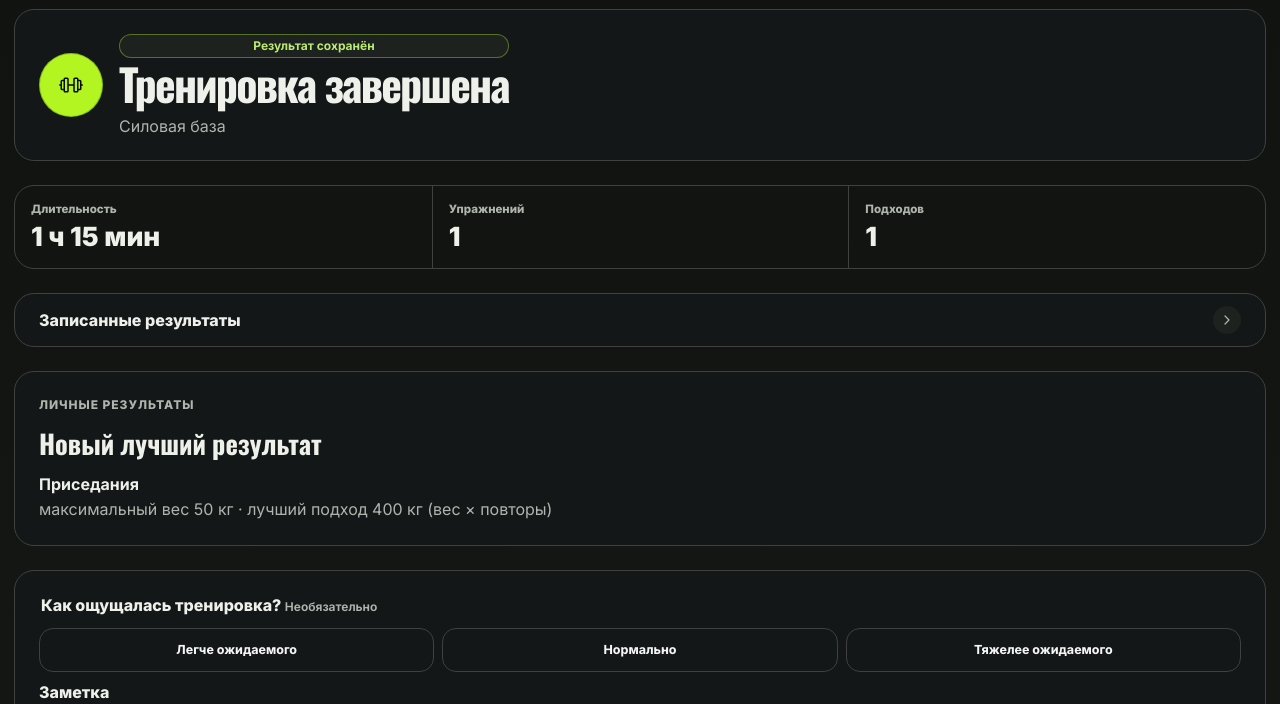
Test: WorkoutCompletionSummary › keeps the optional note after a recoverable save error and retries idempotent PUT
Click the button "Нормально": (640, 650) [442,628,838,672]
(page scrolled)
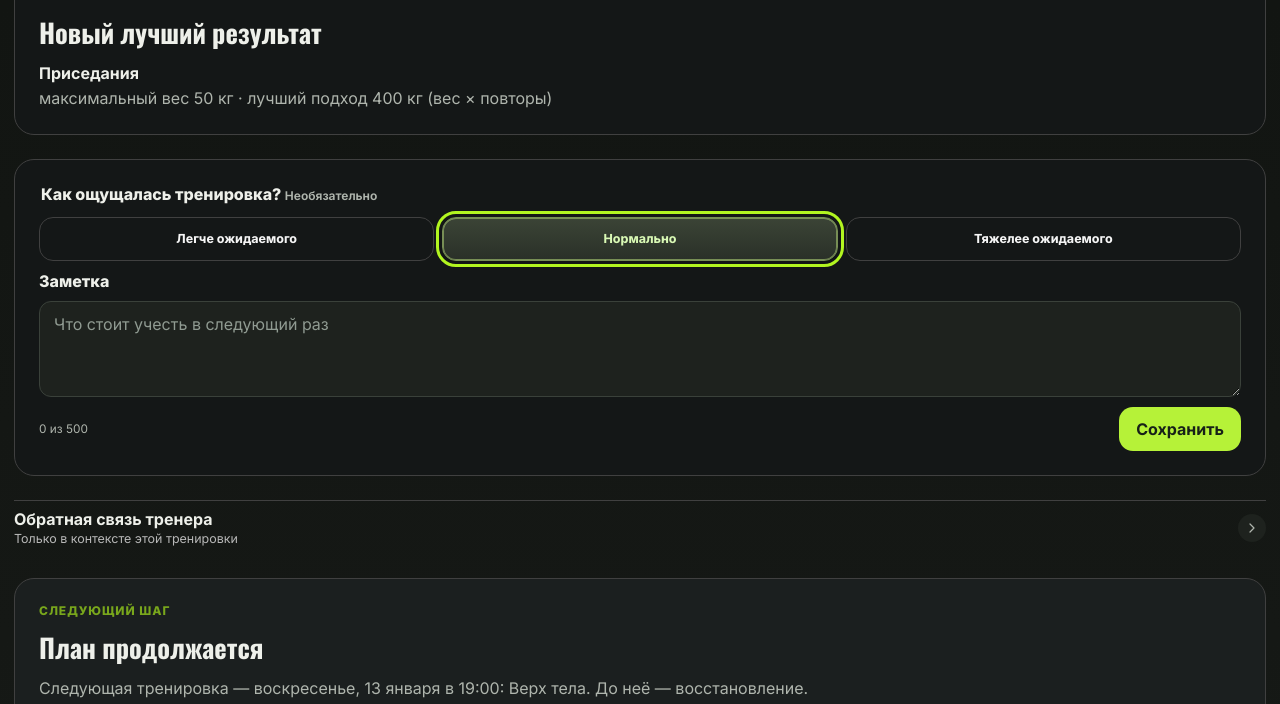
In the text box labelled "Заметка": (640, 349) [39,301,1241,397], type "Рабочий темп"
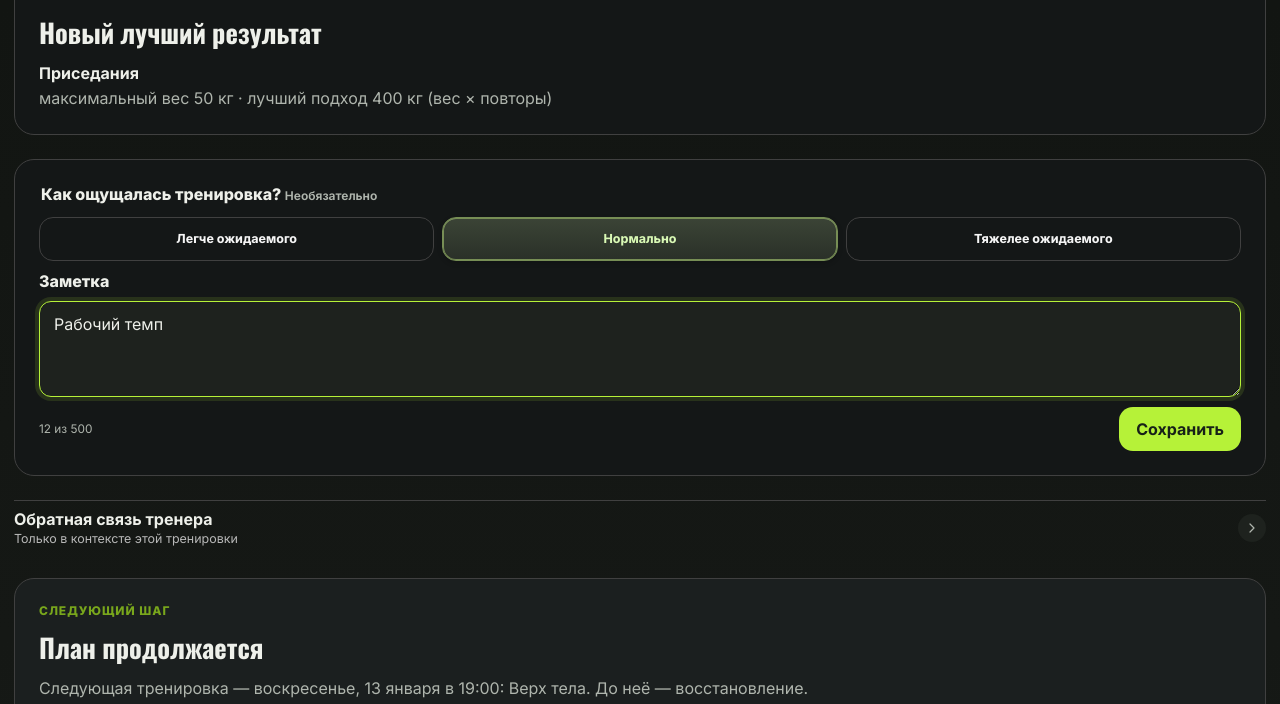
Click the button "Сохранить": (1180, 429) [1119,407,1241,451]
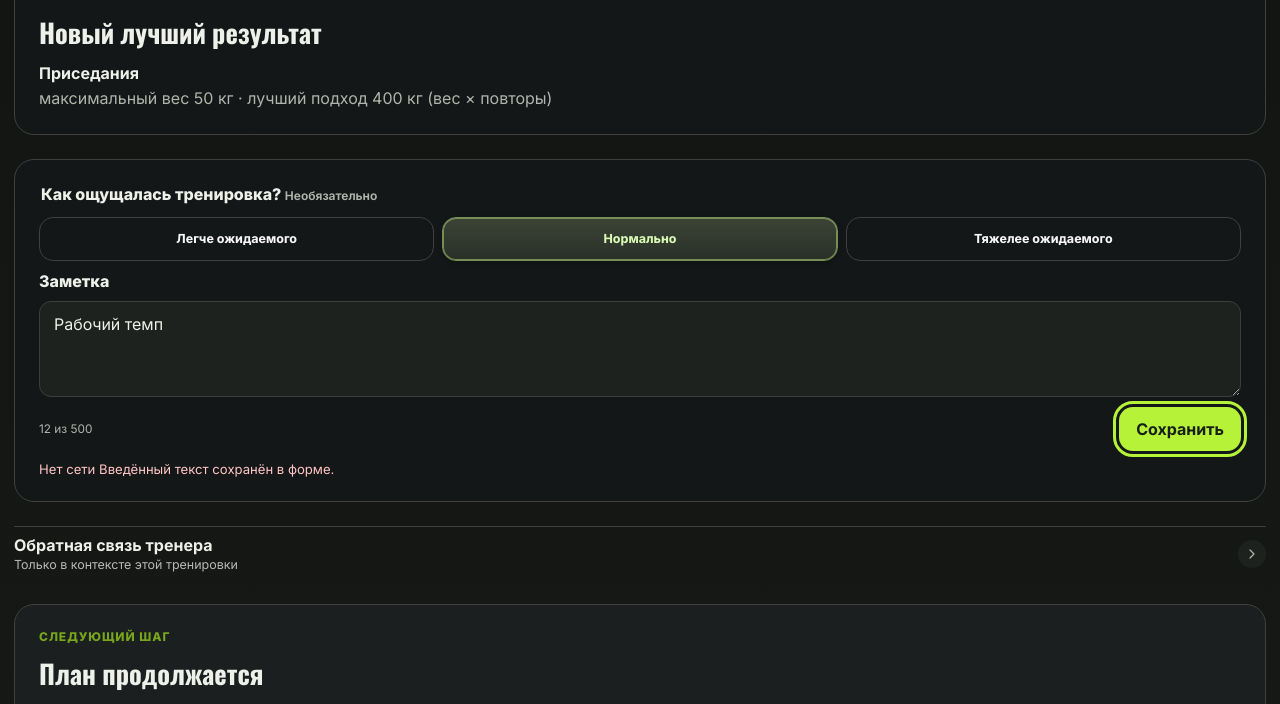
Check: the message shows "Нет сети", box [39,461,95,477]
Click the button "Сохранить": (1180, 429) [1119,407,1241,451]
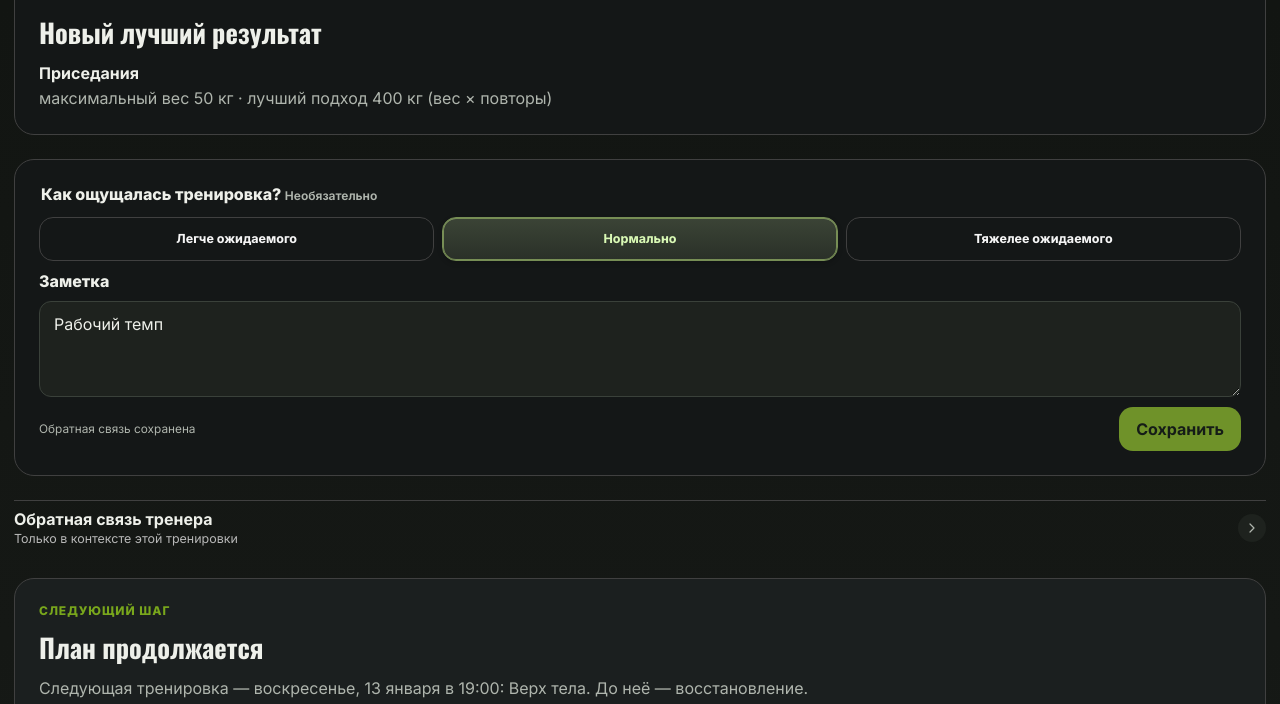
Check: the text "Обратная связь сохранена" is shown, box [39,422,196,436]
